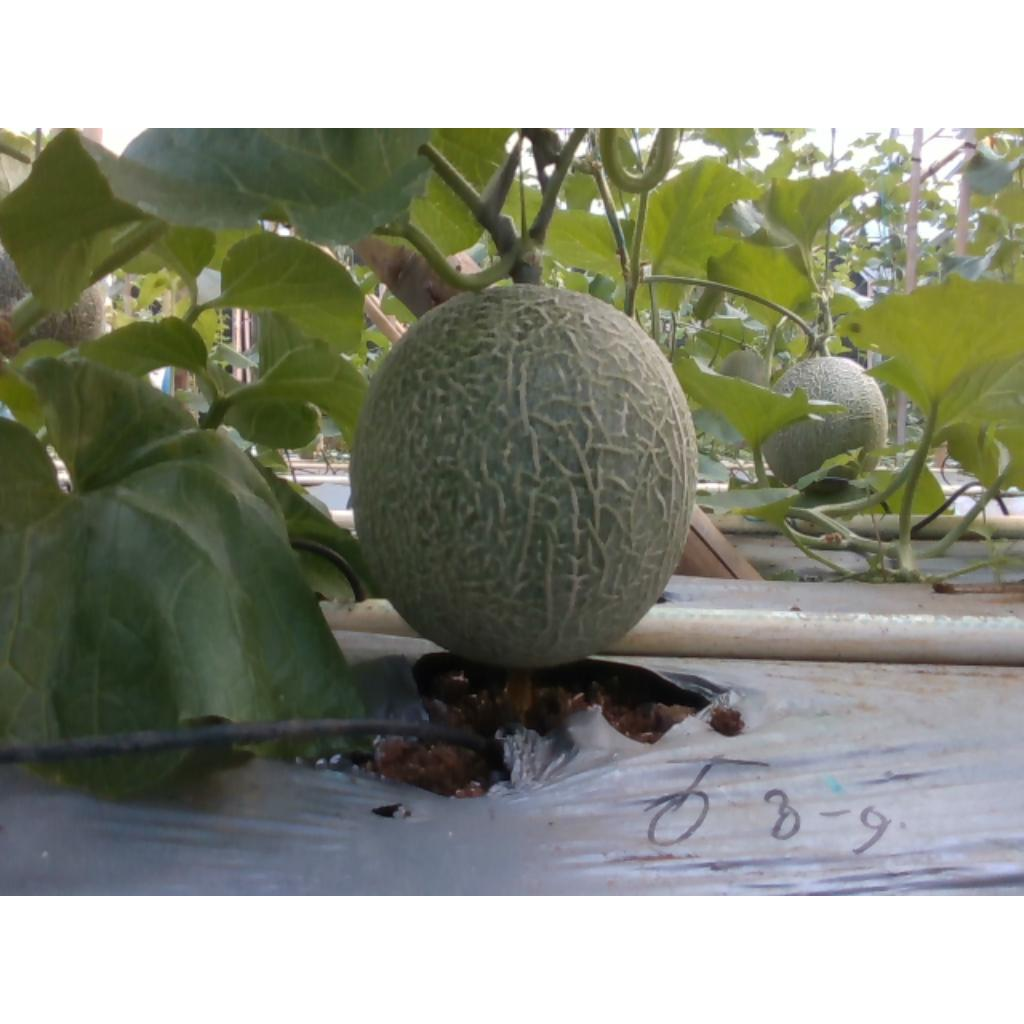melon: (352, 285, 698, 668)
